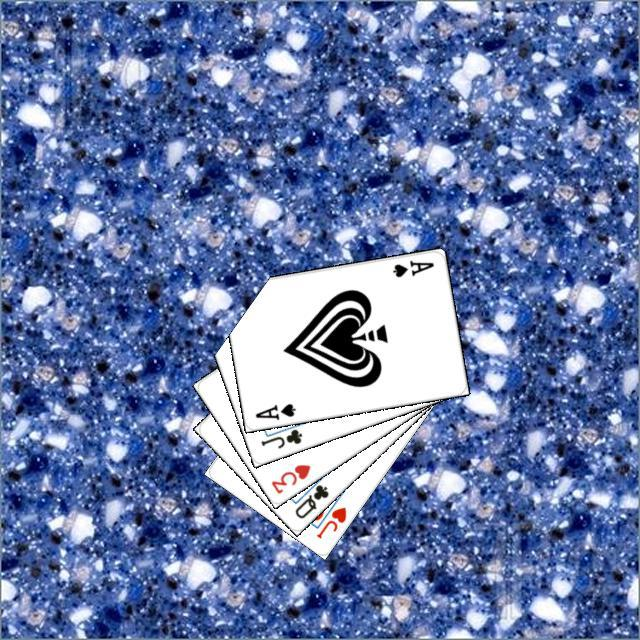3h: (266, 459, 312, 496)
As: (387, 256, 435, 279), (250, 399, 297, 422)
Jc: (256, 424, 304, 450)
Jh: (311, 502, 348, 540)
Qc: (288, 472, 330, 520)
